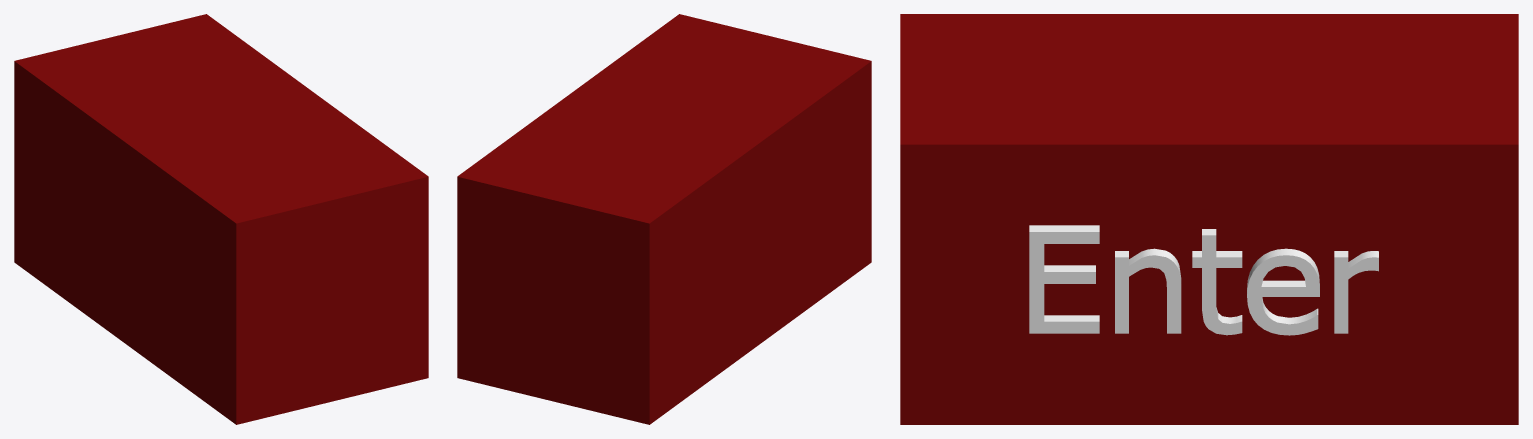
Rendered from Enter.dae.
The picture shows the model from 3 angles, left to right: view 1: azimuth 30°, elevation 25°; view 2: azimuth 150°, elevation 25°; view 3: azimuth 270°, elevation 25°; orthographic projection. The views are drawn at different scales.
Parts seen in each view (by area): view 1: SketchUp; view 2: SketchUp; view 3: SketchUp, Enter (×5).
Part boxes in pixels (left/top/right/bottom): SketchUp: left=14, top=14, right=428, bottom=424; SketchUp: left=457, top=14, right=871, bottom=424; SketchUp: left=900, top=14, right=1518, bottom=424; Enter (×5): left=1029, top=225, right=1378, bottom=335.
Size of the model in its own units: 21 by 40 by 20.
